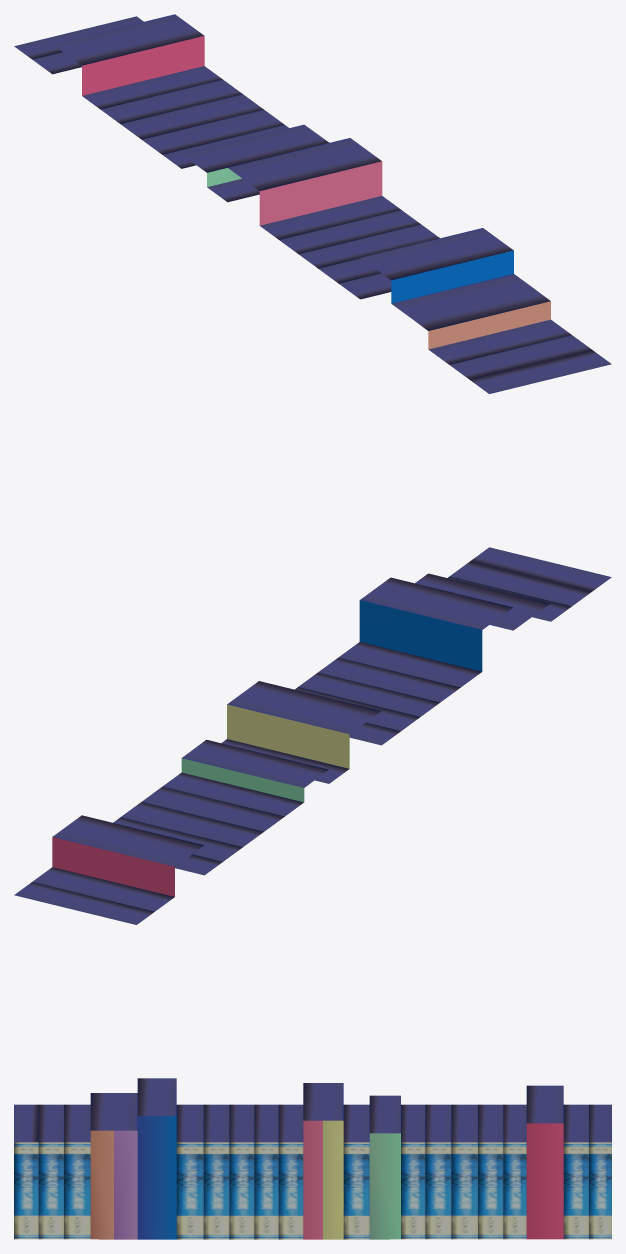
The picture shows the model from 3 angles, top to bottom: view 1: azimuth 30°, elevation 25°; view 2: azimuth 150°, elevation 25°; view 3: azimuth 270°, elevation 25°; orthographic projection. The views are drawn at different scales.
Parts seen in each view (by area): view 1: Joint_0_Object_0; view 2: Joint_0_Object_0; view 3: Joint_0_Object_0.
Part boxes in pixels (<box>): Joint_0_Object_0: <box>14,14,611,393</box>; Joint_0_Object_0: <box>14,547,611,924</box>; Joint_0_Object_0: <box>14,1078,611,1239</box>.
Bounding box in the file's own units: 551 × 841 × 3690.
1 material, 1 textured.
